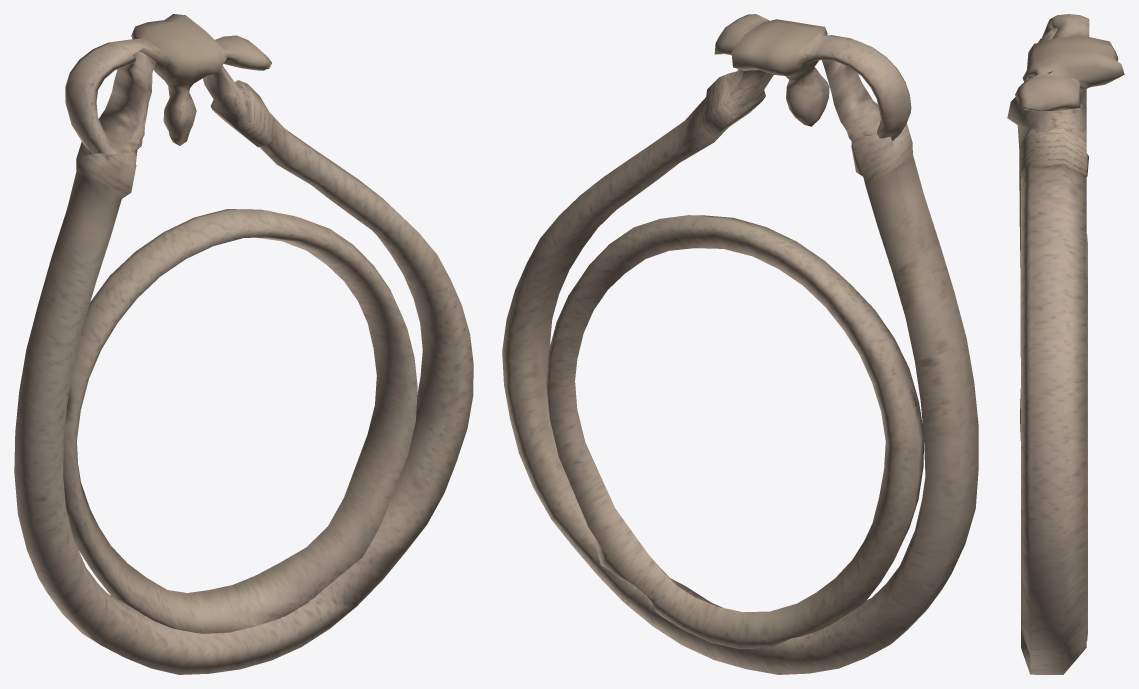
Rendered from Nueva_soga.fbx.
3 views of the same model, side by side, from view 1: azimuth 30°, elevation 25°; view 2: azimuth 150°, elevation 25°; view 3: azimuth 270°, elevation 25° (orthographic). The views are drawn at different scales.
Visible parts, largest first — view 1: Soga.001; view 2: Soga.001; view 3: Soga.001.
Part boxes in pixels (left/top/right/bottom): Soga.001: left=14, top=14, right=473, bottom=674; Soga.001: left=502, top=14, right=978, bottom=674; Soga.001: left=1007, top=14, right=1124, bottom=674.
Size of the model in its own units: 134 by 182 by 32.95.
